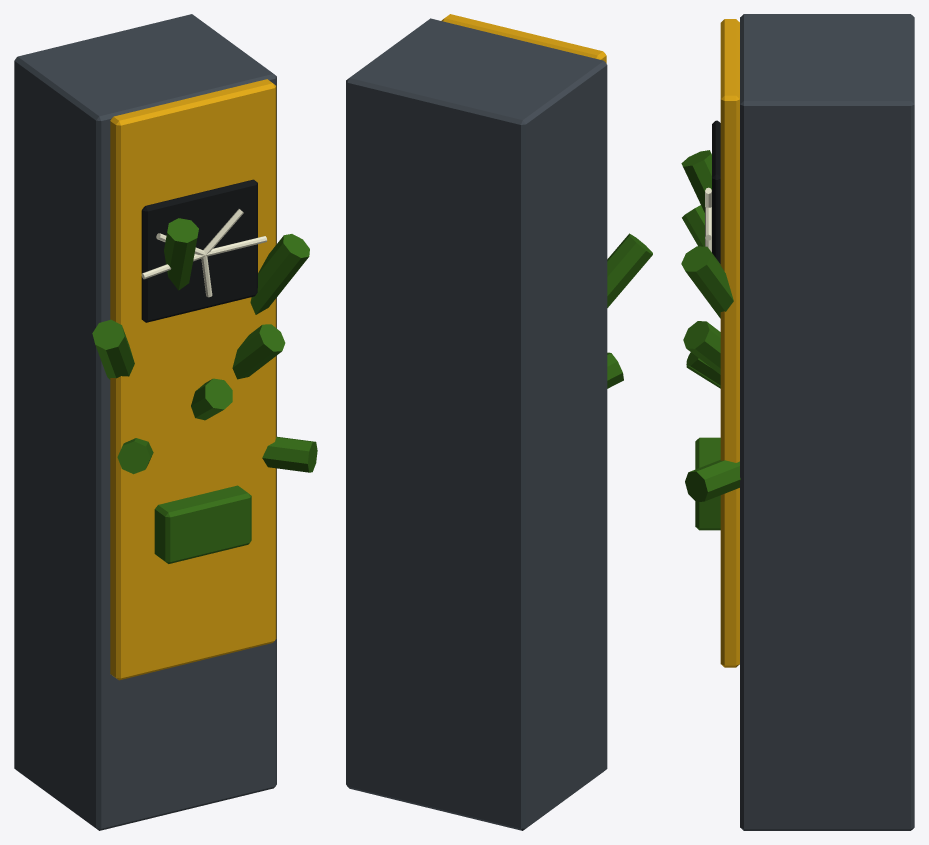
File: InfectedParkingMeter.fbx
3 views of the same model, side by side, from view 1: azimuth 30°, elevation 25°; view 2: azimuth 150°, elevation 25°; view 3: azimuth 270°, elevation 25° (orthographic). The views are drawn at different scales.
Visible parts, largest first — view 1: InfectedParkingMeter; view 2: InfectedParkingMeter; view 3: InfectedParkingMeter.
Part boxes in pixels (x1=…): InfectedParkingMeter: x1=14, y1=14, x2=317, y2=830; InfectedParkingMeter: x1=346, y1=14, x2=652, y2=830; InfectedParkingMeter: x1=681, y1=14, x2=914, y2=830.
Bounding box in the file's own units: 55.25 × 166 × 48.13.
1 material, 1 textured.
